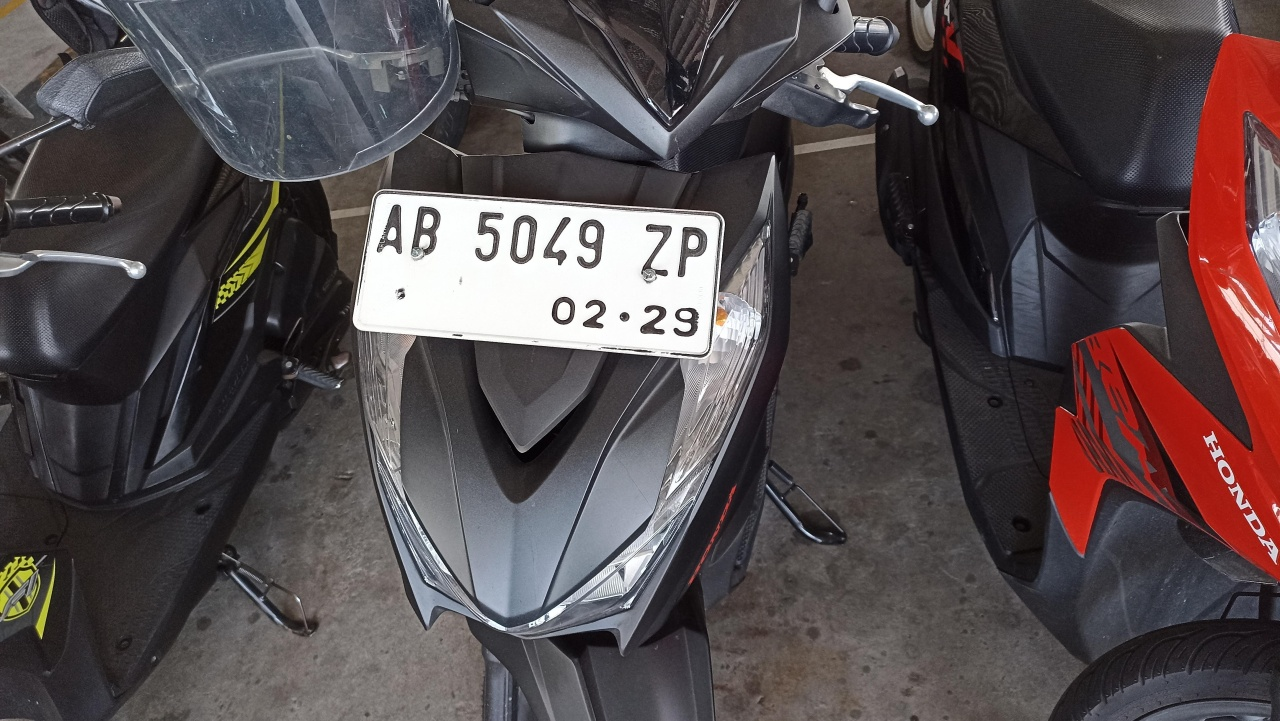plate: (351, 191, 725, 358)
